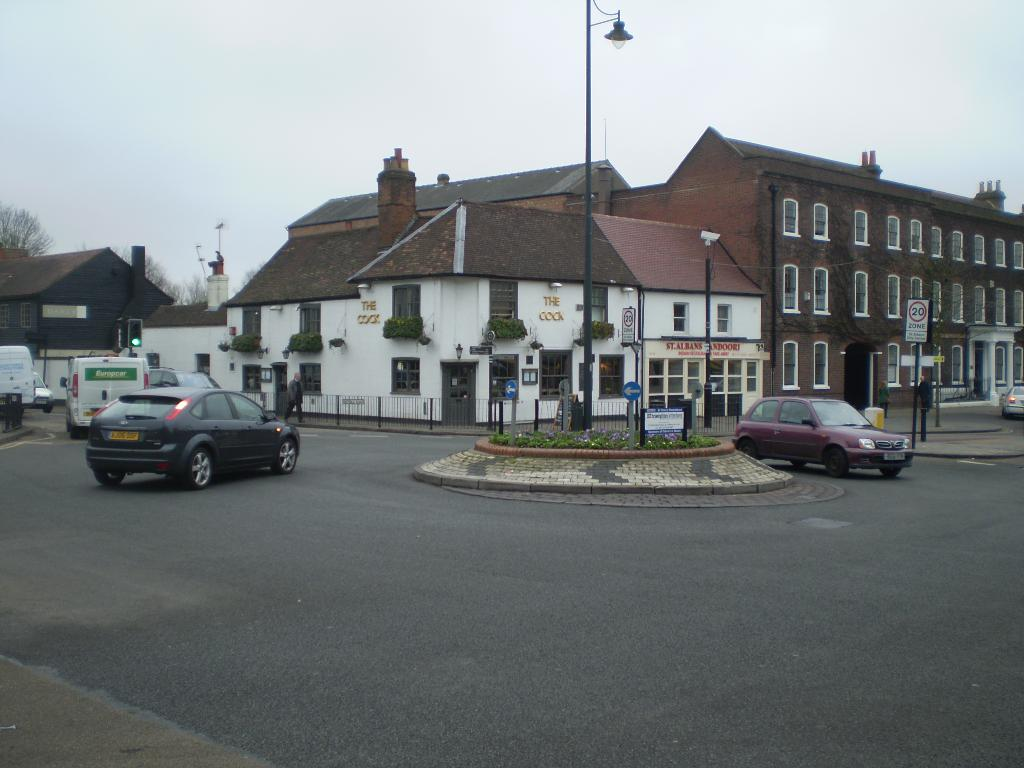cars: (86, 388, 299, 488), (731, 397, 914, 477), (148, 367, 220, 389), (25, 375, 51, 412), (1003, 388, 1023, 414)
